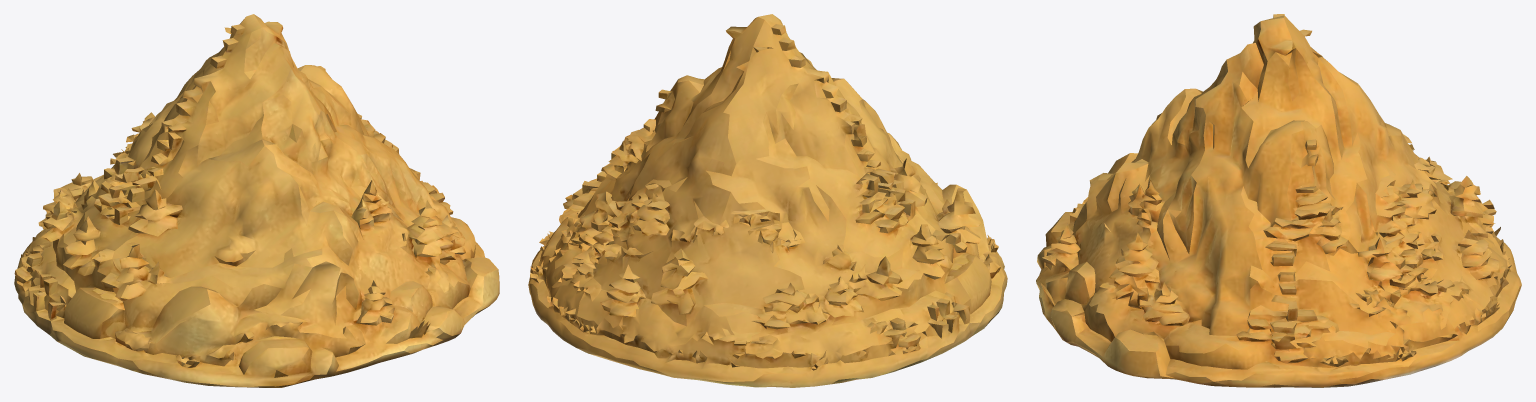
File: mountain-gold.glb
The picture shows the model from 3 angles, left to right: view 1: azimuth 30°, elevation 25°; view 2: azimuth 150°, elevation 25°; view 3: azimuth 270°, elevation 25°; orthographic projection. The views are drawn at different scales.
Visible parts, largest first — view 1: geometry_0; view 2: geometry_0; view 3: geometry_0.
Part boxes in pixels (bbox=[...]): geometry_0: bbox=[14, 14, 499, 387]; geometry_0: bbox=[528, 14, 1007, 387]; geometry_0: bbox=[1036, 14, 1521, 387].
Bounding box in the file's own units: 0.3 × 0.1895 × 0.3004.
1 material, 1 textured.
